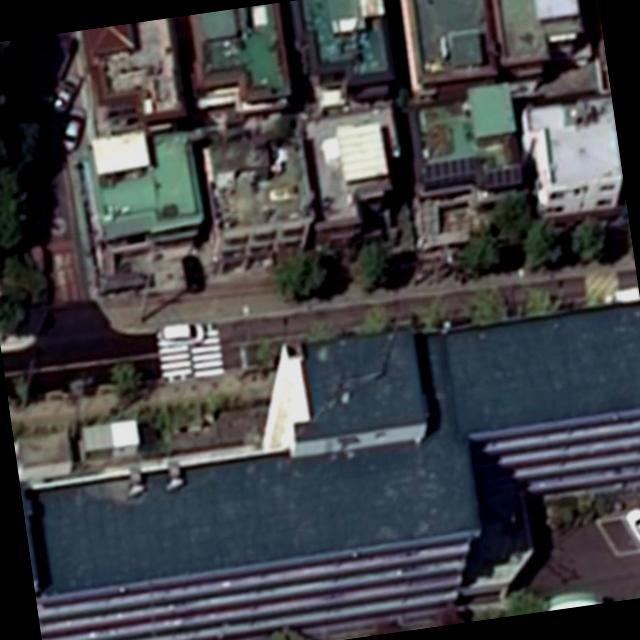solar: (422, 154, 481, 183), (482, 162, 528, 189)
